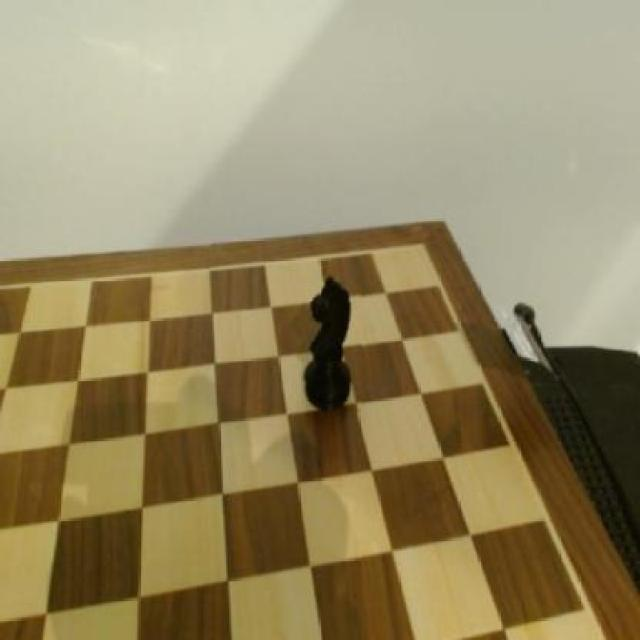black-king: (302, 269, 361, 414)
